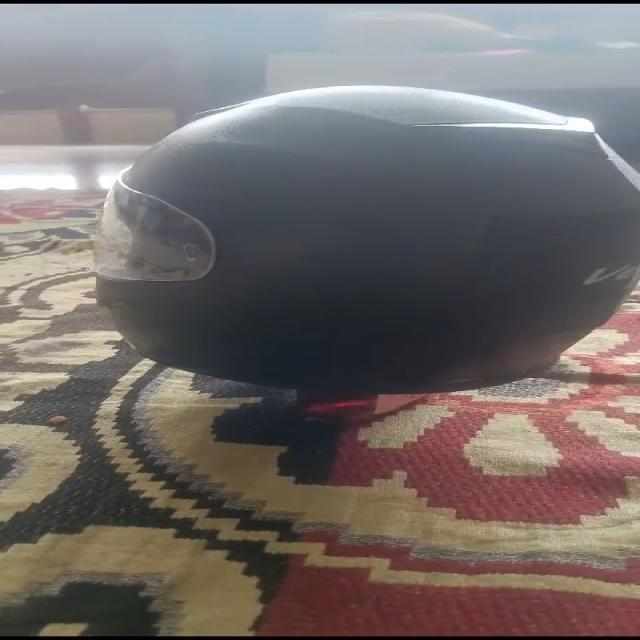Helmet: (92, 83, 640, 398)
